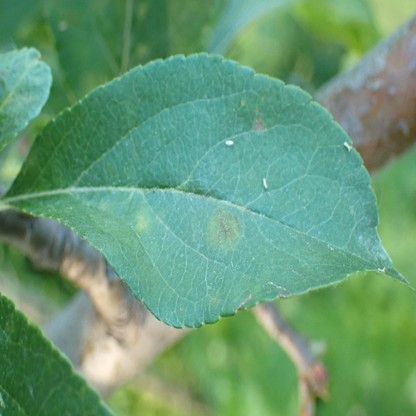powdery_mildew: (360, 227, 386, 264)
scab: (208, 208, 243, 249), (135, 205, 149, 231), (253, 117, 265, 132)
